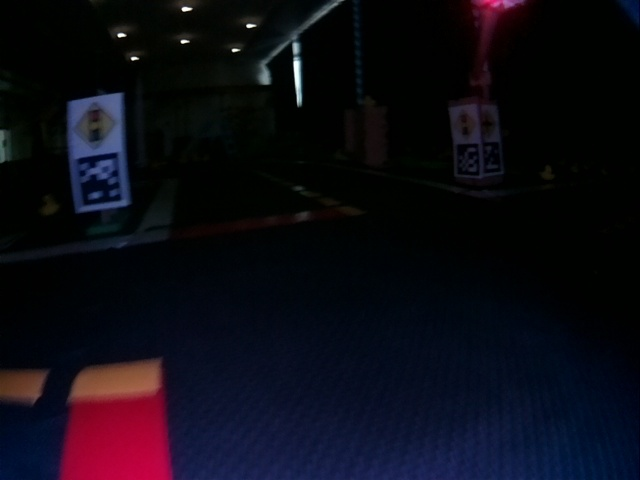Duckie: (41, 195, 56, 214), (541, 170, 555, 181)
Intersection sign: (482, 104, 499, 140)
QR code: (71, 156, 127, 207), (455, 142, 481, 178), (483, 142, 503, 175)
Signal sign: (70, 101, 120, 149), (453, 108, 479, 137)
